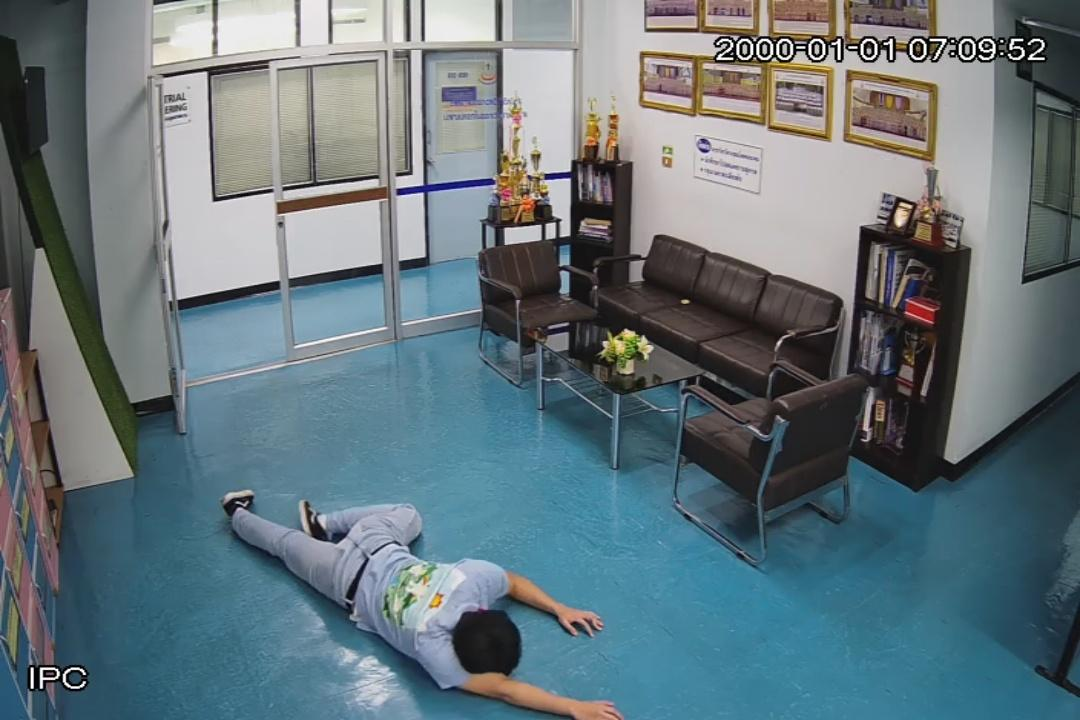fall: (220, 489, 623, 719)
